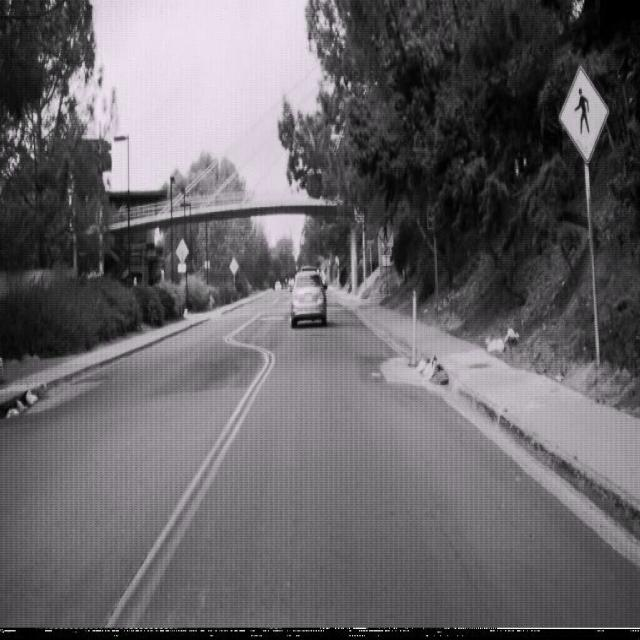pedestrianCrossing: (559, 64, 609, 163)
